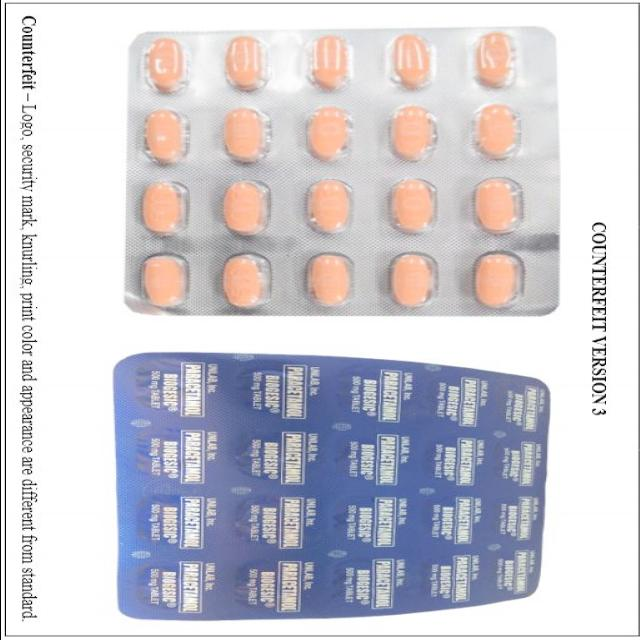counterfeit: (112, 23, 566, 314), (109, 356, 565, 622)
